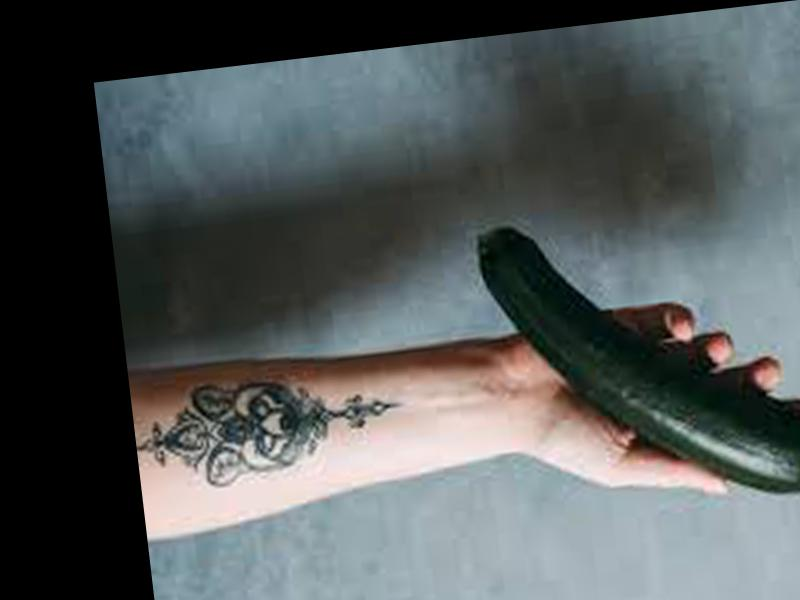Cucumber: (477, 193, 800, 524)
